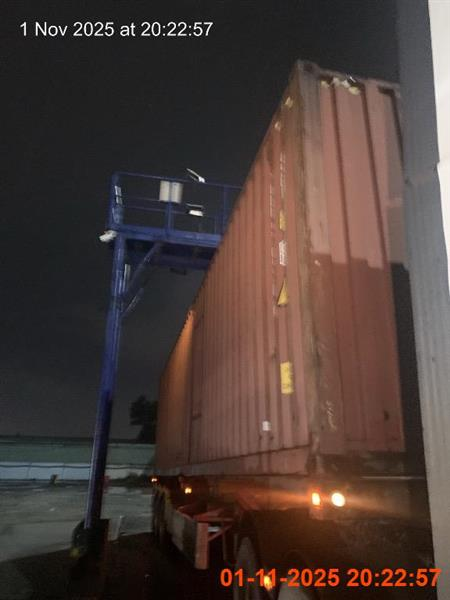dent: (148, 60, 437, 593)
